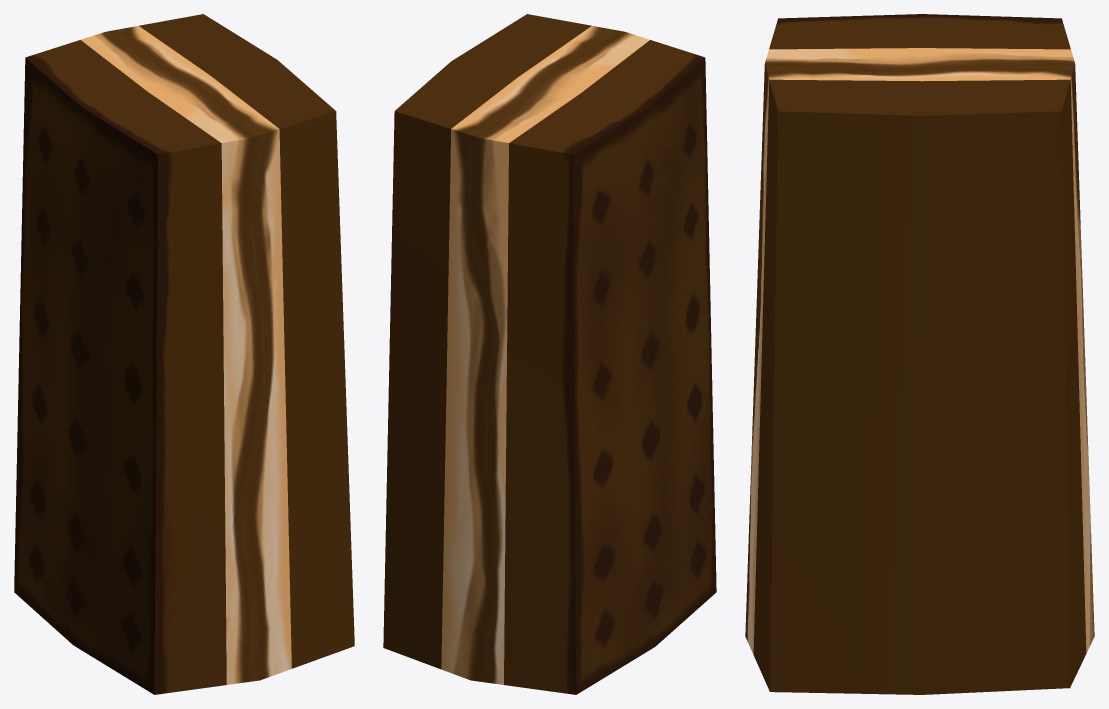
Rendered from ice cream sandwich building.fbx.
3 views of the same model, side by side, from view 1: azimuth 30°, elevation 25°; view 2: azimuth 150°, elevation 25°; view 3: azimuth 270°, elevation 25° (orthographic). The views are drawn at different scales.
Visible parts, largest first — view 1: pCube1; view 2: pCube1; view 3: pCube1.
Part boxes in pixels (bbox=[...]): pCube1: bbox=[14, 14, 354, 694]; pCube1: bbox=[383, 14, 716, 694]; pCube1: bbox=[745, 14, 1094, 694].
Size of the model in its own units: 5.4 by 12.8 by 7.07.
Materials: 1 (1 with a texture image).
